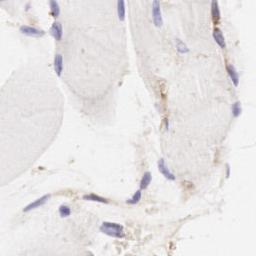nucleus: (156, 158, 176, 180), (24, 193, 51, 209), (100, 226, 125, 238), (48, 23, 64, 41), (20, 25, 45, 36), (124, 190, 142, 204), (141, 168, 152, 189), (53, 54, 63, 77), (100, 220, 124, 229), (152, 1, 161, 25), (212, 32, 225, 48), (230, 65, 239, 86), (233, 102, 243, 119), (58, 205, 71, 218), (175, 39, 188, 52), (51, 1, 60, 17), (117, 1, 124, 19), (225, 162, 230, 178), (81, 196, 98, 200), (213, 4, 218, 14), (165, 119, 168, 129)
positive_cell: (74, 190, 111, 203), (223, 54, 238, 85), (211, 27, 226, 48), (212, 1, 223, 25)
